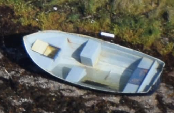boat_cabin: (21, 28, 167, 96)
